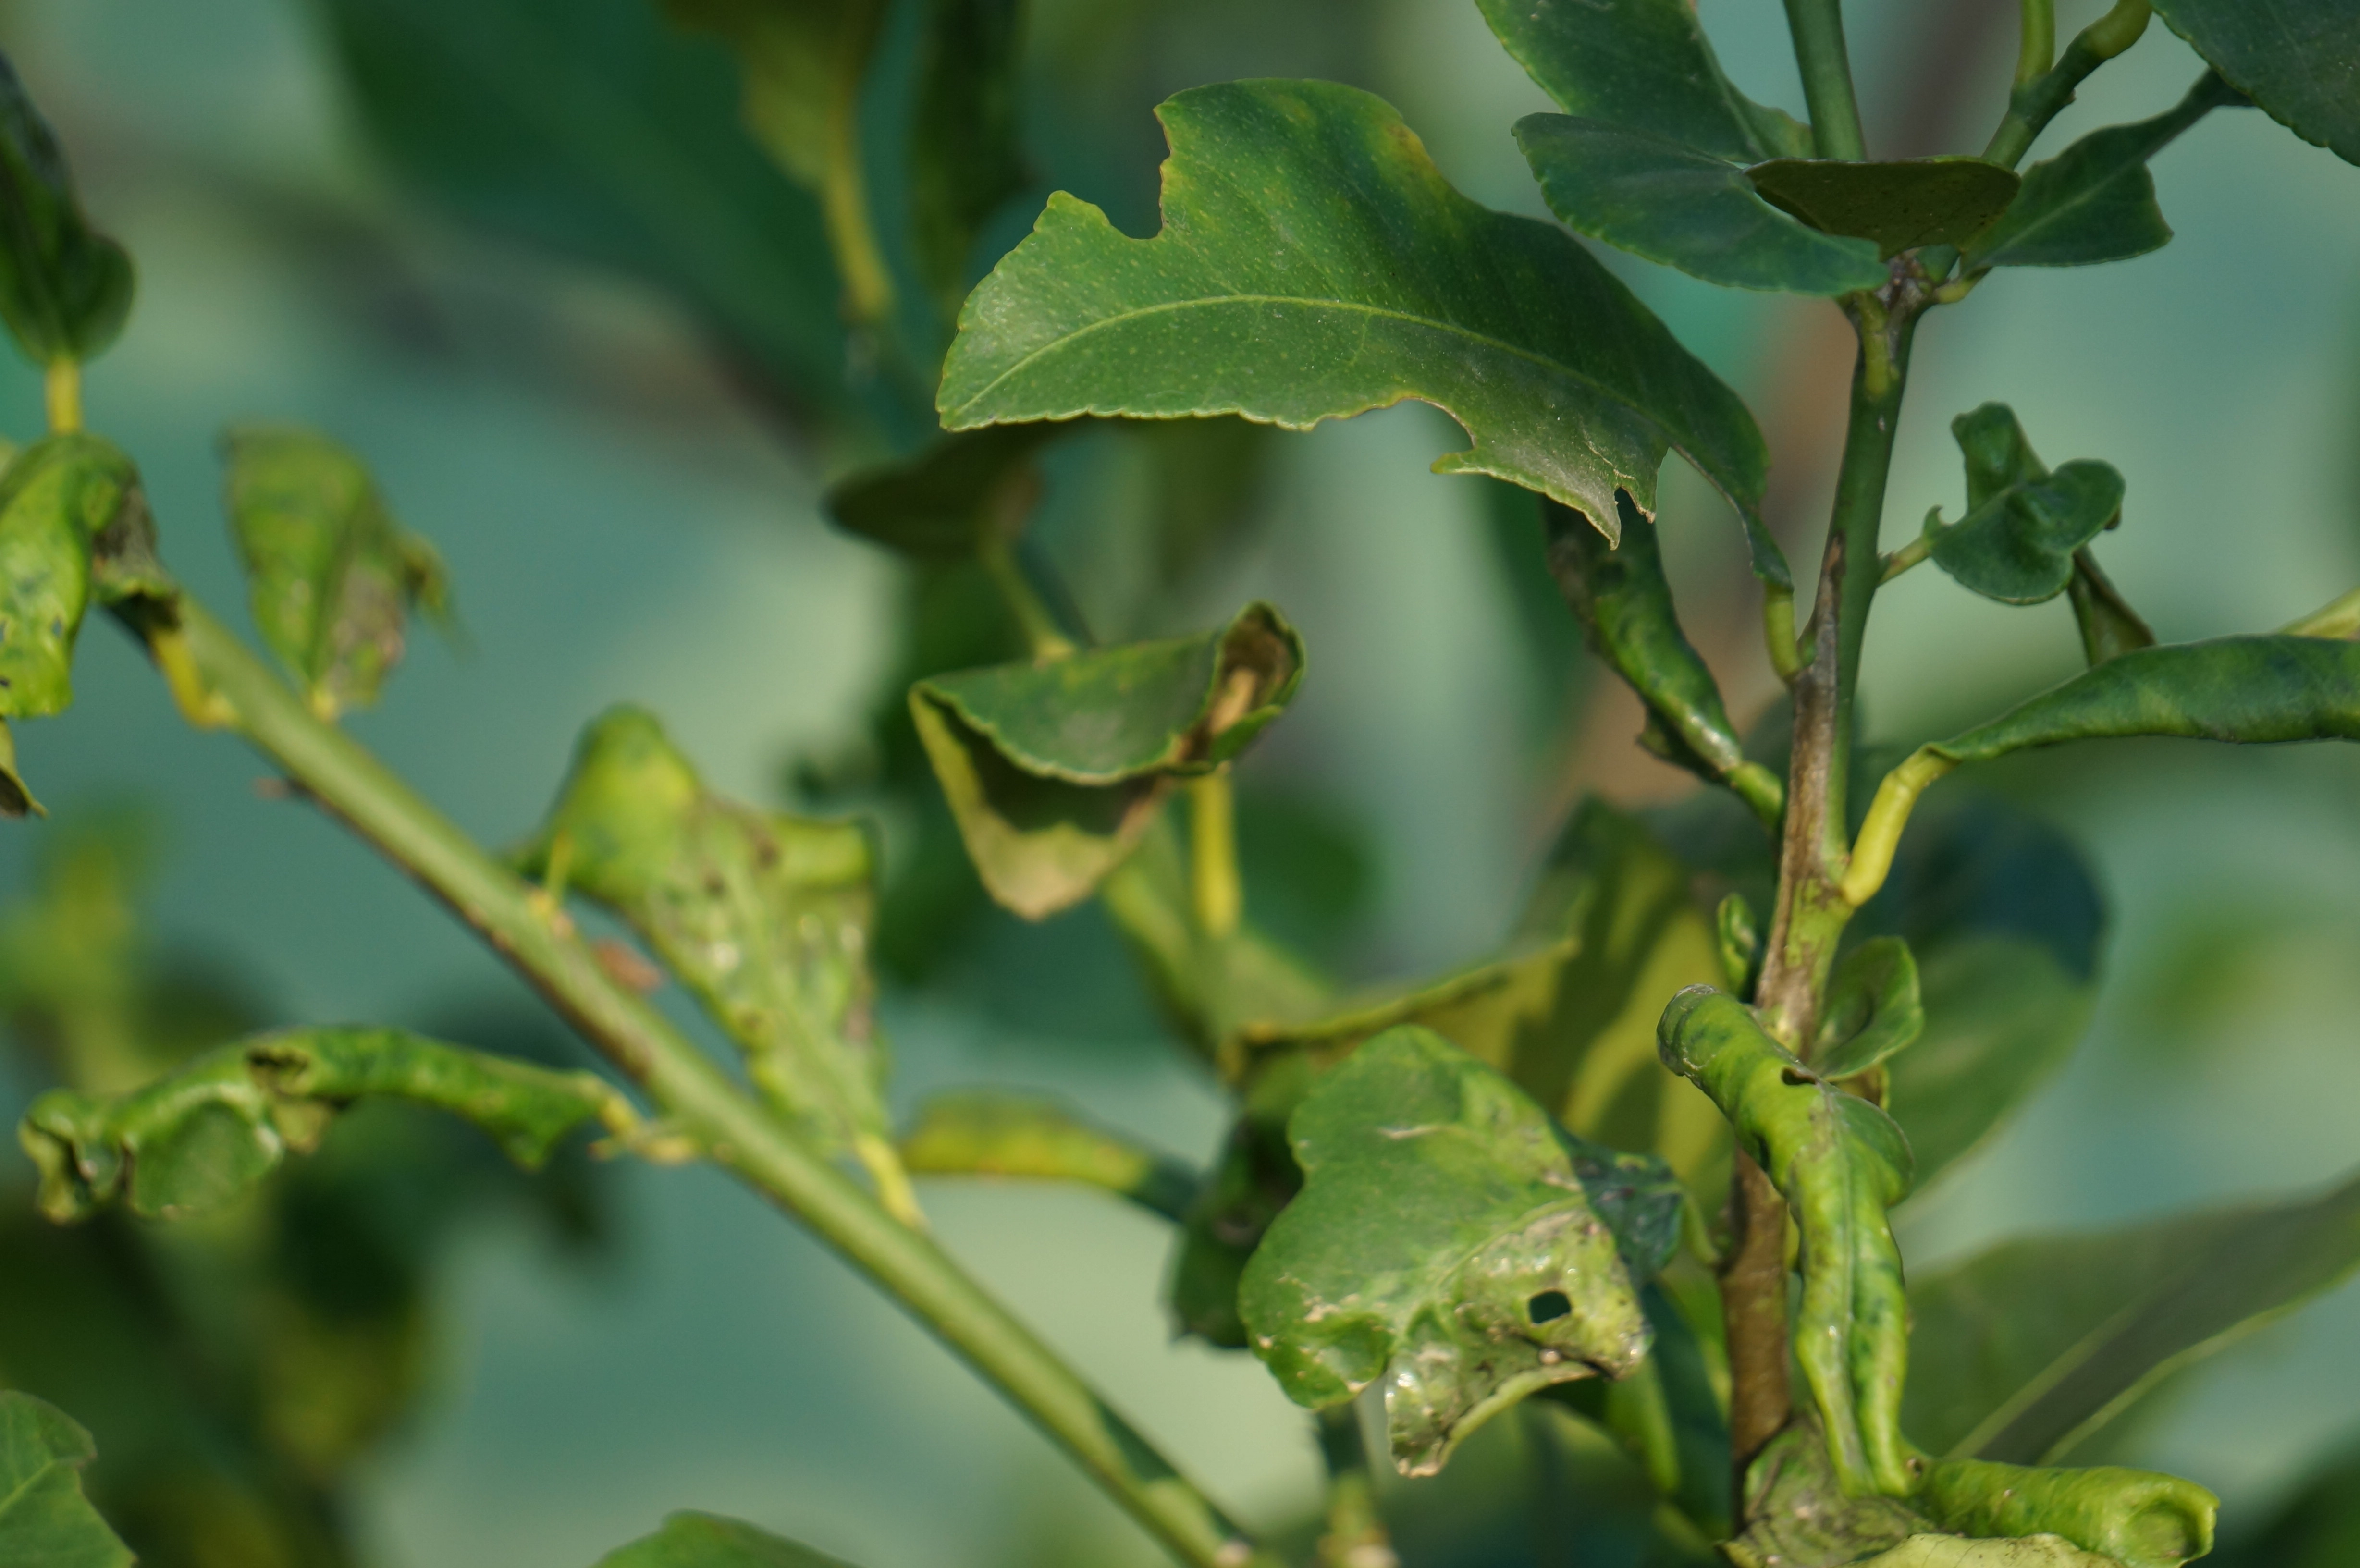curly: (1644, 978, 1972, 1517), (9, 1008, 651, 1258), (1905, 586, 2360, 786), (1683, 1435, 2246, 1568)
